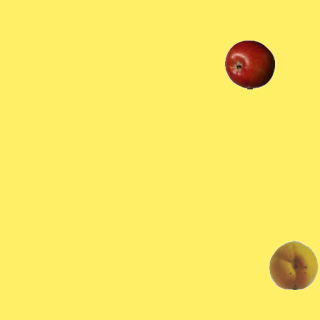Apple Braeburn: (224, 39, 274, 89)
Peach 2: (268, 239, 318, 289)
